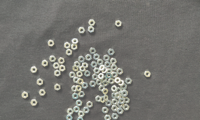nut: (49, 56, 57, 63), (78, 27, 86, 34), (125, 78, 133, 85), (22, 92, 29, 99), (31, 100, 38, 107), (31, 67, 38, 74), (42, 60, 49, 67), (48, 40, 55, 47), (54, 70, 61, 77), (54, 84, 61, 91), (59, 65, 66, 72), (58, 58, 65, 65), (66, 49, 73, 56), (64, 42, 71, 49), (71, 44, 78, 51), (72, 38, 79, 45), (88, 26, 95, 33), (76, 100, 83, 107), (72, 93, 79, 100), (78, 111, 85, 118), (78, 91, 85, 98), (75, 85, 82, 92), (69, 72, 76, 79), (77, 78, 84, 85), (82, 82, 89, 89), (76, 71, 83, 78), (74, 61, 81, 68), (78, 56, 85, 63), (79, 66, 86, 73), (84, 70, 91, 77), (90, 48, 97, 55), (90, 81, 97, 88), (92, 74, 99, 81), (97, 59, 104, 66), (102, 107, 109, 114), (99, 65, 106, 72), (108, 49, 115, 56), (110, 58, 117, 65), (115, 77, 122, 84), (118, 80, 125, 87), (111, 86, 118, 93), (117, 108, 124, 115), (119, 98, 126, 105), (123, 104, 130, 111), (144, 71, 151, 78), (86, 54, 92, 62), (100, 96, 106, 104), (106, 100, 112, 108), (39, 90, 46, 96), (37, 79, 43, 86), (53, 63, 60, 69), (89, 20, 96, 26), (116, 20, 122, 27), (67, 109, 74, 115), (74, 106, 80, 113), (71, 86, 77, 93), (83, 108, 90, 114), (87, 102, 93, 109), (73, 77, 79, 84), (72, 66, 79, 72), (82, 63, 89, 69), (94, 68, 101, 74), (91, 62, 98, 68), (94, 54, 100, 61), (96, 80, 103, 86), (102, 89, 109, 95), (99, 73, 105, 80), (103, 80, 109, 87), (104, 55, 110, 62), (106, 73, 113, 79), (106, 69, 113, 75), (111, 65, 118, 71), (109, 78, 115, 85), (117, 69, 124, 75), (112, 99, 118, 106), (112, 105, 118, 112), (112, 114, 119, 120), (115, 93, 121, 100), (121, 84, 128, 90), (122, 91, 128, 98), (99, 86, 105, 92), (102, 68, 108, 74), (102, 76, 108, 82), (105, 62, 111, 68), (112, 72, 118, 78), (112, 93, 118, 99), (116, 88, 122, 94), (118, 95, 124, 101), (118, 102, 124, 108), (124, 98, 130, 104), (66, 115, 73, 120), (96, 96, 101, 103), (104, 95, 109, 102), (105, 115, 112, 120), (77, 117, 84, 120)
